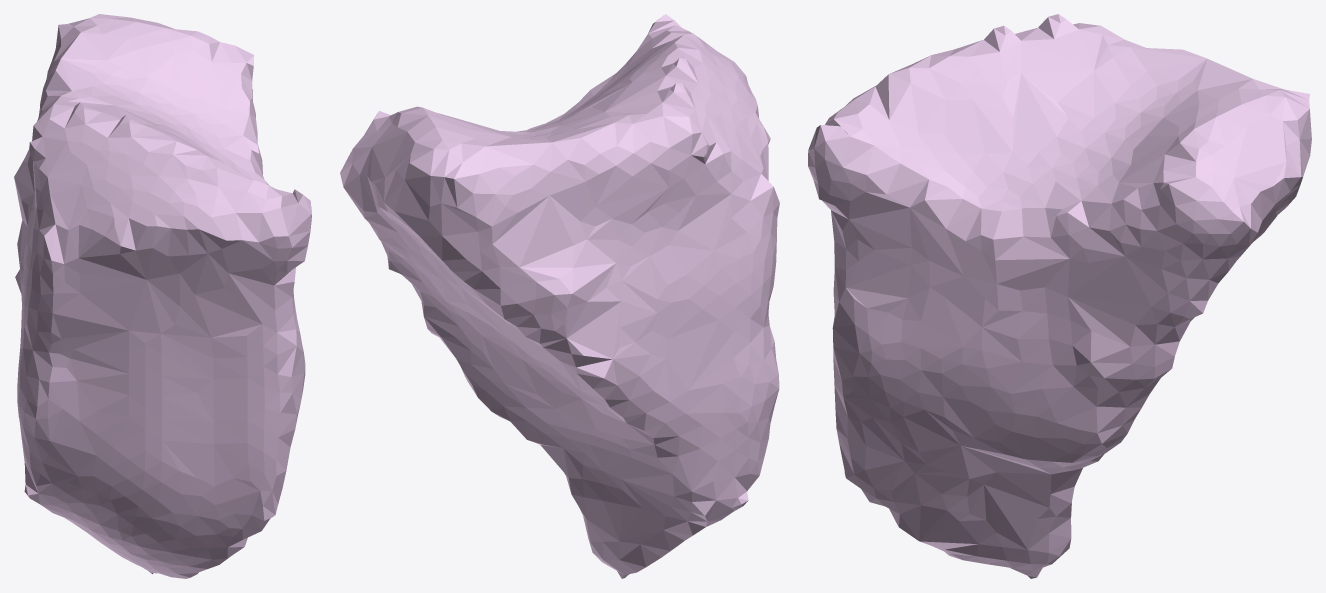
File: Model_10026_LH__Agranular_insular_cortex_(AI).obj
3 views of the same model, side by side, from view 1: azimuth 30°, elevation 25°; view 2: azimuth 150°, elevation 25°; view 3: azimuth 270°, elevation 25° (orthographic). The views are drawn at different scales.
Bounding box in the file's own units: 1.45 × 2.23 × 1.91.
